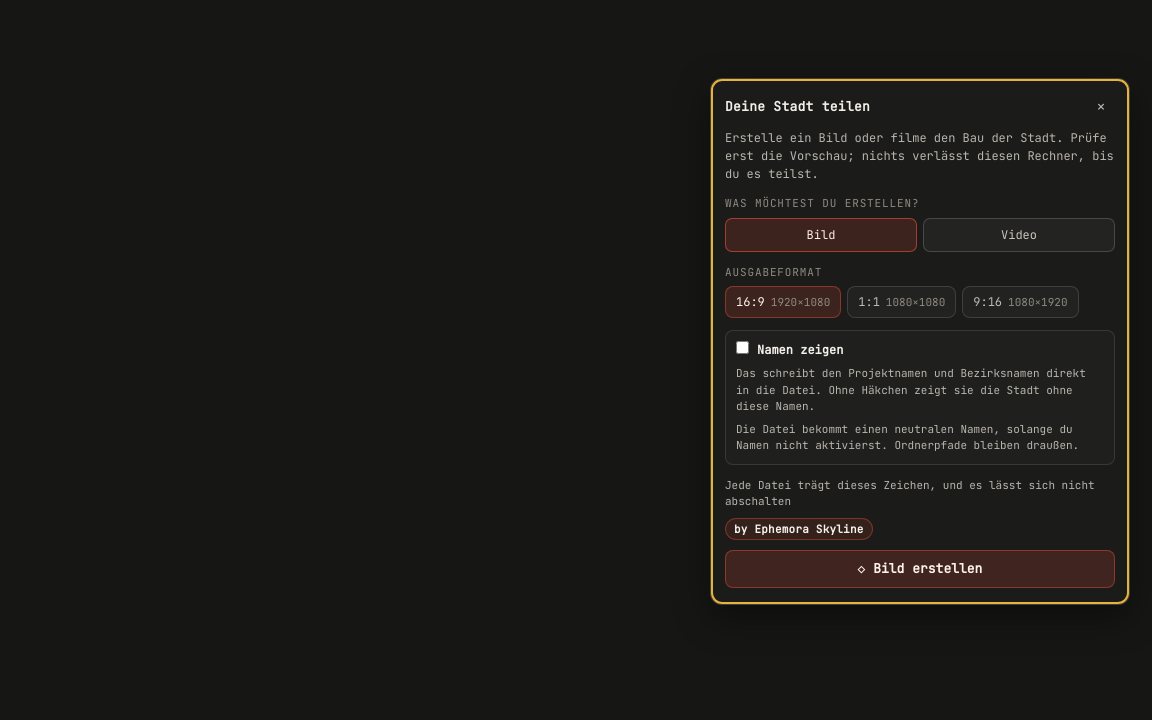
Test case: the studio's quality row speaks the card's vocabulary › shows the same value in German, where only the row label is translated
Click the button with class "share-media-button" showing "Video": (1019, 234) x1=923 y1=218 x2=1115 y2=252
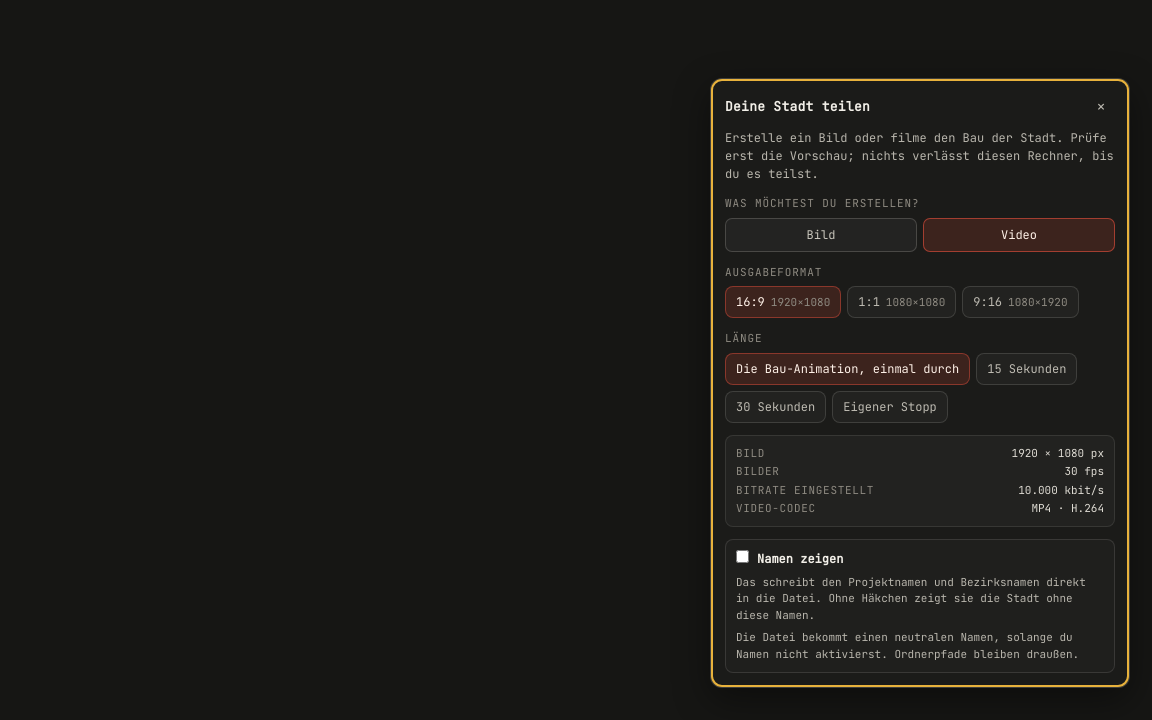
Now the text "Video-Codec" is shown, box x1=736 y1=501 x2=816 y2=515
Now the text "MP4 · H.264" is shown, box x1=1031 y1=501 x2=1104 y2=515
